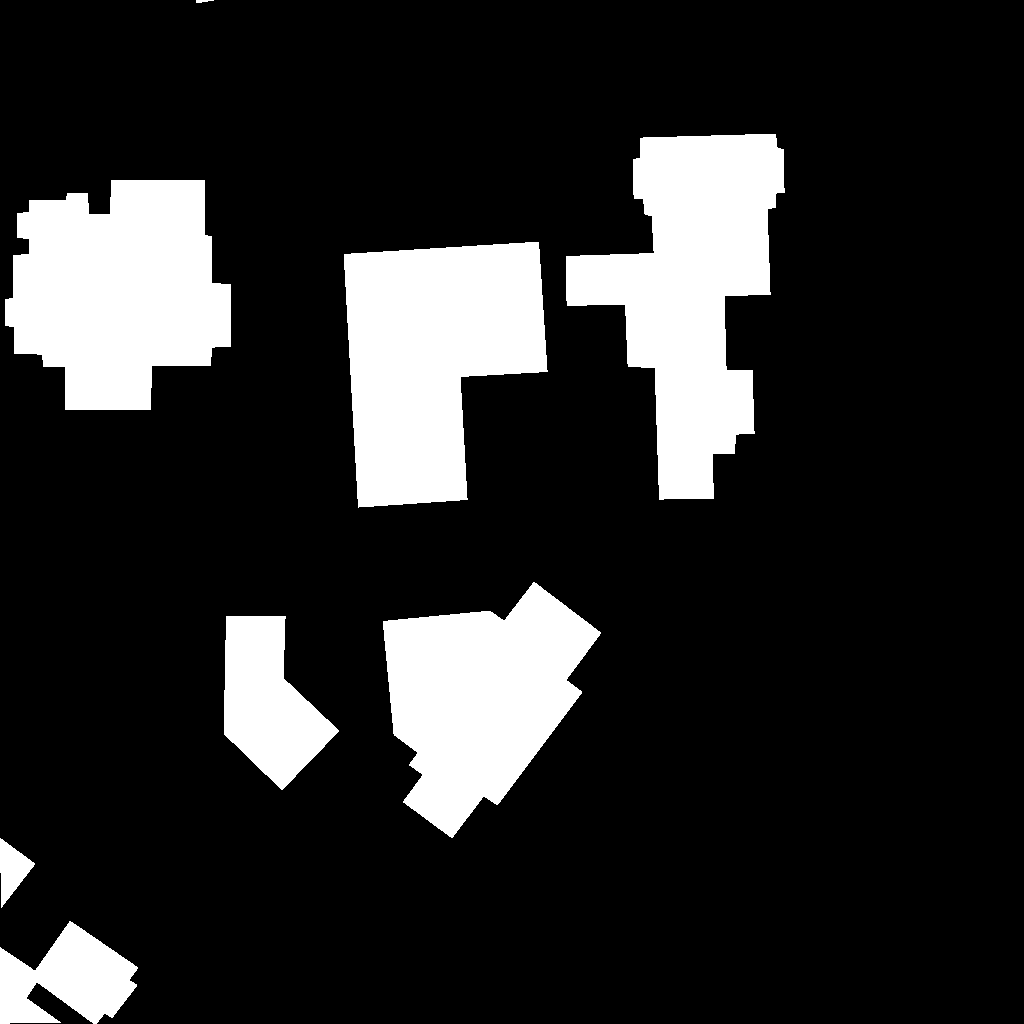building: (566, 134, 785, 500), (383, 582, 602, 839), (344, 242, 548, 508), (5, 180, 231, 410), (224, 616, 340, 791), (0, 921, 139, 1024), (0, 838, 36, 909), (196, 0, 217, 4)
